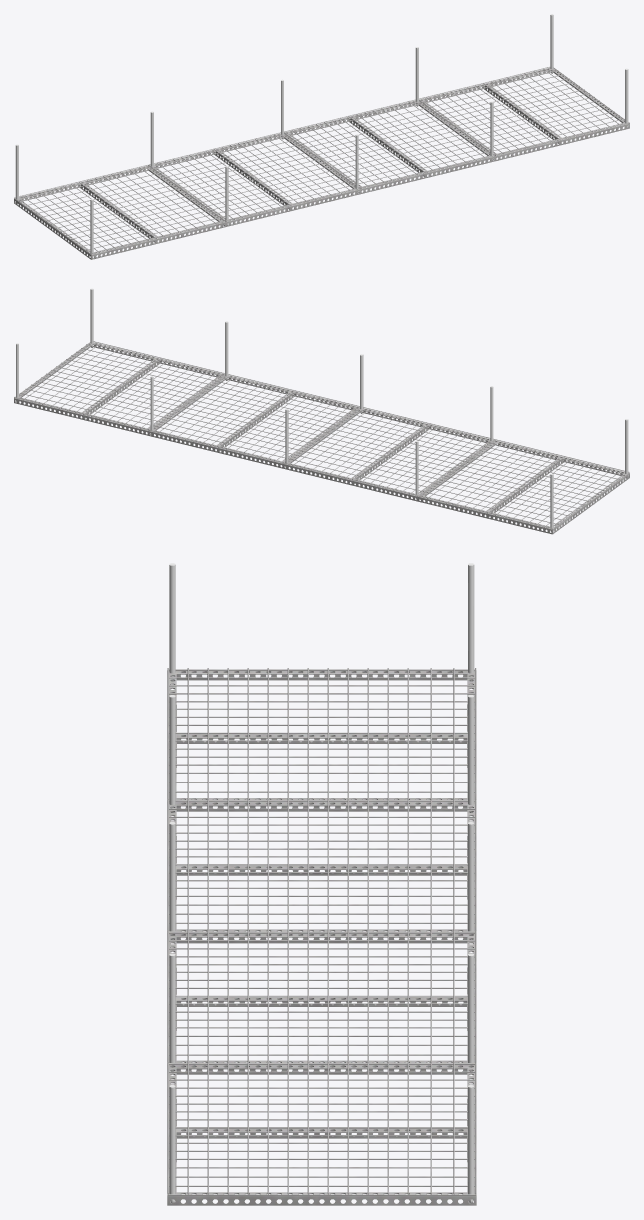
The picture shows the model from 3 angles, top to bottom: view 1: azimuth 30°, elevation 25°; view 2: azimuth 150°, elevation 25°; view 3: azimuth 270°, elevation 25°; orthographic projection. The views are drawn at different scales.
Parts seen in each view (by area): view 1: Grill004, Rods004; view 2: Grill004, Rods004; view 3: Grill004, Rods004.
Part boxes in pixels (x1,y1,x2,y2): Grill004: [14, 66, 629, 259]; Rods004: [15, 14, 628, 258]; Grill004: [14, 341, 629, 534]; Rods004: [16, 288, 628, 532]; Grill004: [167, 668, 476, 1205]; Rods004: [169, 563, 474, 1203].
Bounding box in the file's own units: 124 × 12.99 × 30.94.
2 materials, 2 textured.
